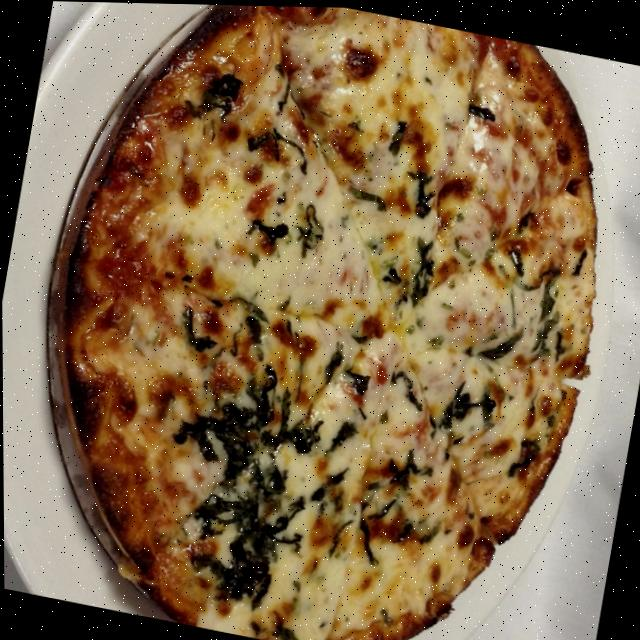basil: (163, 432, 327, 616), (159, 348, 292, 493), (254, 388, 338, 463), (347, 480, 404, 570), (498, 246, 568, 315), (178, 67, 248, 131), (434, 374, 503, 437), (241, 124, 319, 176), (366, 438, 433, 498), (402, 228, 442, 311), (468, 307, 529, 361), (394, 158, 446, 218), (308, 451, 359, 512), (525, 301, 573, 364), (390, 498, 444, 552), (287, 200, 334, 261), (243, 601, 316, 640), (240, 201, 294, 252), (502, 424, 549, 479), (382, 360, 433, 410), (170, 305, 220, 353), (338, 175, 396, 211), (379, 109, 417, 161), (313, 333, 349, 386), (323, 510, 362, 558), (336, 358, 379, 399), (322, 411, 359, 458), (225, 291, 271, 323), (463, 96, 500, 123), (377, 259, 402, 285)
pizza: (0, 0, 640, 640)
